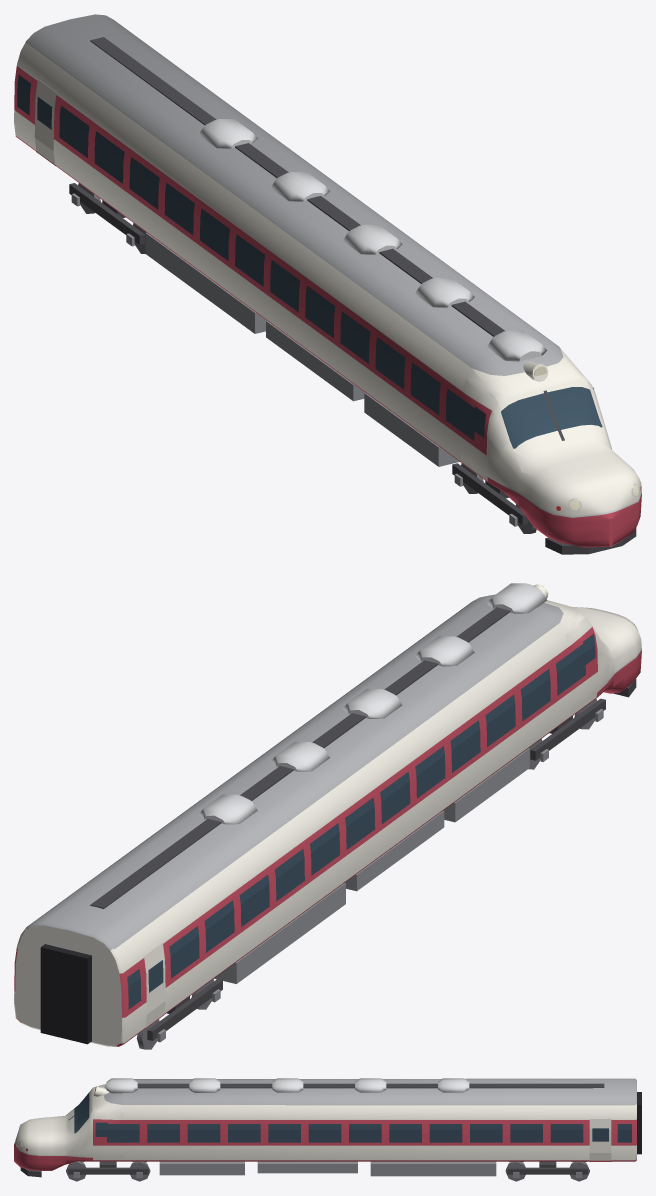
3 views of the same model, one above another, from view 1: azimuth 30°, elevation 25°; view 2: azimuth 150°, elevation 25°; view 3: azimuth 270°, elevation 25° (orthographic). The views are drawn at different scales.
Parts seen in each view (by area): view 1: 21_2; view 2: 21_2; view 3: 21_2.
Part boxes in pixels (<box>): 21_2: <box>14,14,641,554</box>; 21_2: <box>14,583,641,1049</box>; 21_2: <box>14,1078,641,1181</box>.
Bounding box in the file's own units: 2.96 × 4.04 × 25.
